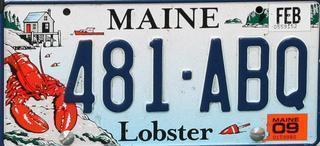placa de veiculo: (4, 1, 320, 146)
